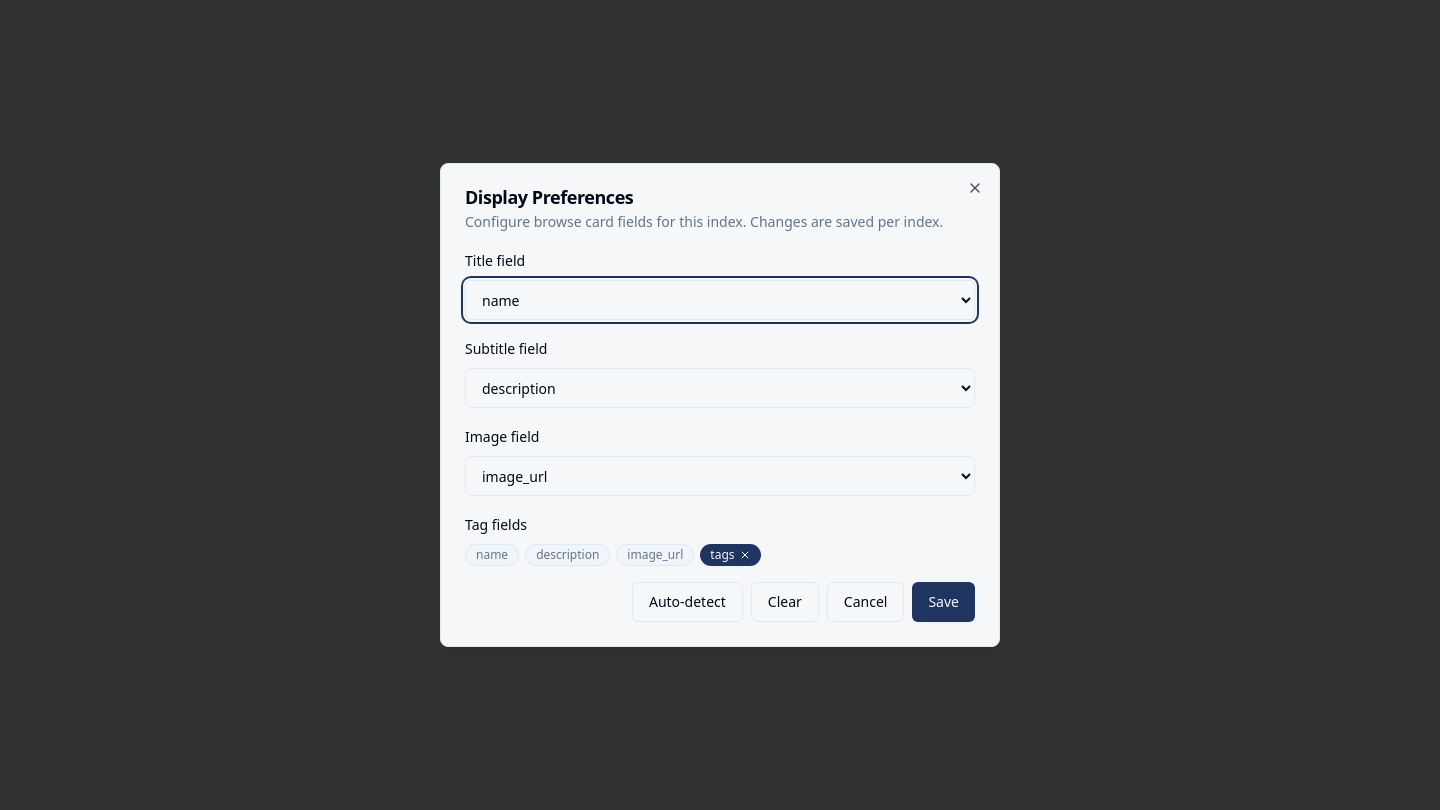
DisplayPreferencesModal interaction contract › applies auto-detect to local draft only
Click the button "Auto-detect" at [687, 602], box [632, 582, 743, 622]
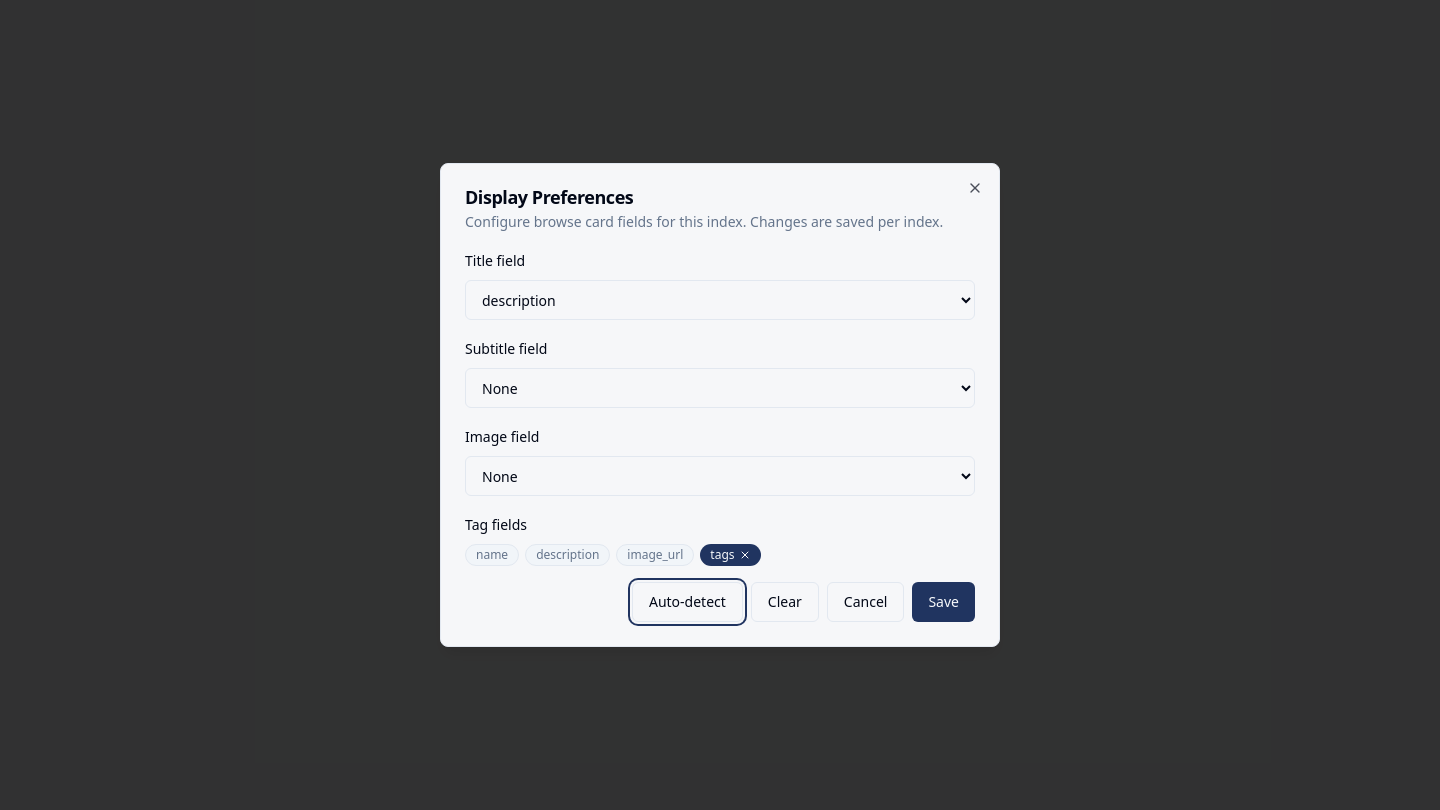
Now the dropdown labelled "Title field" shows "description", box [465, 280, 975, 320]
